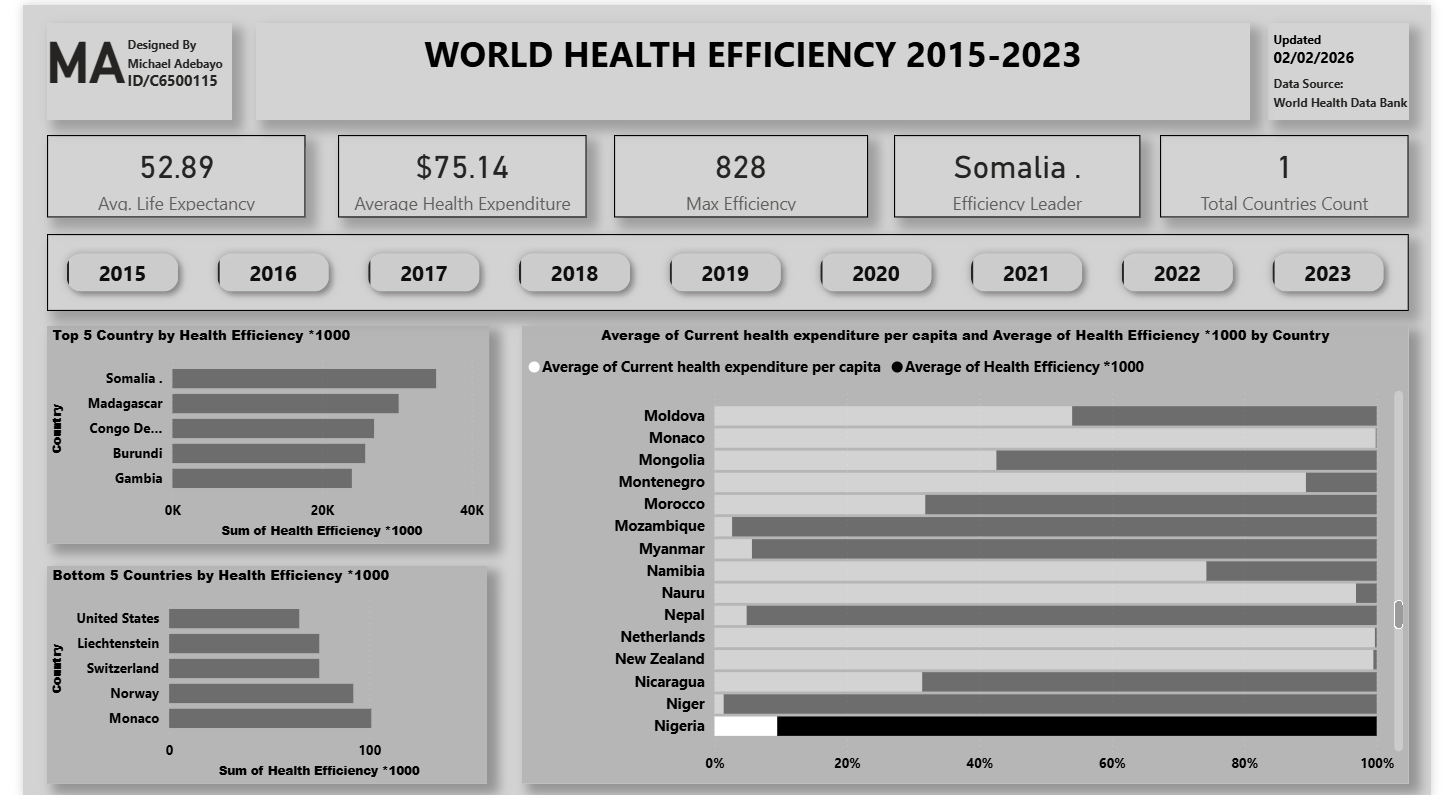

The dashboard page shown, as its layout file describes it:
{"tool":"powerbi","page":{"name":"Page 1","canvas":[1280,720],"ordinal":0},"visuals":[{"type":"clusteredBarChart","title":"Top 5 Country by Health Efficiency *1000","fields":{"Category":["Table1.Country Name"],"Y":["Sum(Table1.Health Efficiency *1000)"]},"box":[22,292,402,198],"z":0},{"type":"clusteredBarChart","title":"Bottom 5 Countries by Health Efficiency *1000 ","fields":{"Category":["Table1.Country "],"Y":["Sum(Table1.Health Efficiency *1000)"]},"box":[22,510,400,198],"z":1000},{"type":"advancedSlicerVisual","fields":{"Values":["Table1.Year"]},"box":[22,208,1238,70],"z":2000},{"type":"hundredPercentStackedBarChart","fields":{"Category":["Table1.Country "],"Y":["Avg(Table1.Current health expenditure per capita )","Avg(Table1.Health Efficiency *1000)"]},"box":[454,292,806,416],"z":3000},{"type":"textbox","box":[212,16,904,88],"z":4000},{"type":"card","fields":{"Values":["Table1.Avg. Life Expectancy"]},"box":[22,118,235.1,75],"z":4000,"group":"g1"},{"type":"textbox","box":[1132,16,128,88],"z":5000},{"type":"card","fields":{"Values":["Table1.Average Health Expenditure"]},"box":[286.2,118,226.2,75],"z":5000,"group":"g1"},{"type":"textbox","box":[16.7,18.3,93.3,91.7],"z":6000},{"type":"card","fields":{"Values":["Table1.Max Efficiency"]},"box":[537,118,230.6,75],"z":6000,"group":"g1"},{"type":"group","id":"g1","title":"Group 2","box":[22,118,1238,76],"z":7000},{"type":"card","fields":{"Values":["Table1.Efficiency Leader"]},"box":[792.3,118,223.9,75],"z":7000,"group":"g1"},{"type":"textbox","box":[90,21.1,106.7,68.9],"z":8000},{"type":"textbox","box":[1132,56,138,62],"z":9000},{"type":"card","fields":{"Values":["Table1.Total Countries"]},"box":[1034.2,118,226.2,75],"z":9000,"group":"g1"},{"type":"textbox","box":[22,16,168,88],"z":10000}]}

Visuals, with their boxes in screenshot pixels (x1, y1, x2, y2), scaled from the page's 1280x720 canvas onto the 1442x795 screenshot:
"Top 5 Country by Health Efficiency *1000" clusteredBarChart: pyautogui.locateOnScreen(25, 322, 478, 541)
"Bottom 5 Countries by Health Efficiency *1000 " clusteredBarChart: pyautogui.locateOnScreen(25, 563, 475, 782)
advancedSlicerVisual - Table1.Year: pyautogui.locateOnScreen(25, 230, 1419, 307)
hundredPercentStackedBarChart - Table1.Country  x Avg(Table1.Current health expenditure per capita ): pyautogui.locateOnScreen(511, 322, 1419, 782)
textbox: pyautogui.locateOnScreen(239, 18, 1257, 115)
card - Table1.Avg. Life Expectancy: pyautogui.locateOnScreen(25, 130, 290, 213)
textbox: pyautogui.locateOnScreen(1275, 18, 1419, 115)
card - Table1.Average Health Expenditure: pyautogui.locateOnScreen(322, 130, 577, 213)
textbox: pyautogui.locateOnScreen(19, 20, 124, 121)
card - Table1.Max Efficiency: pyautogui.locateOnScreen(605, 130, 865, 213)
"Group 2" group: pyautogui.locateOnScreen(25, 130, 1419, 214)
card - Table1.Efficiency Leader: pyautogui.locateOnScreen(893, 130, 1145, 213)
textbox: pyautogui.locateOnScreen(101, 23, 222, 99)
textbox: pyautogui.locateOnScreen(1275, 62, 1431, 130)
card - Table1.Total Countries: pyautogui.locateOnScreen(1165, 130, 1420, 213)
textbox: pyautogui.locateOnScreen(25, 18, 214, 115)
